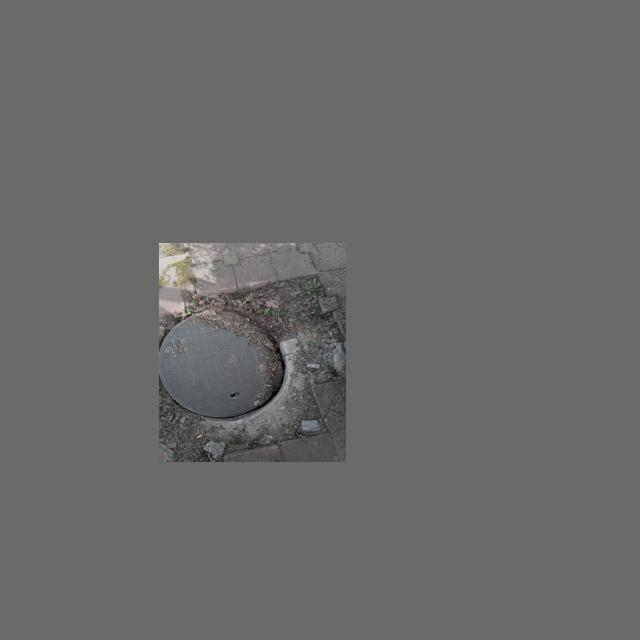uncovered: (159, 304, 292, 421)
